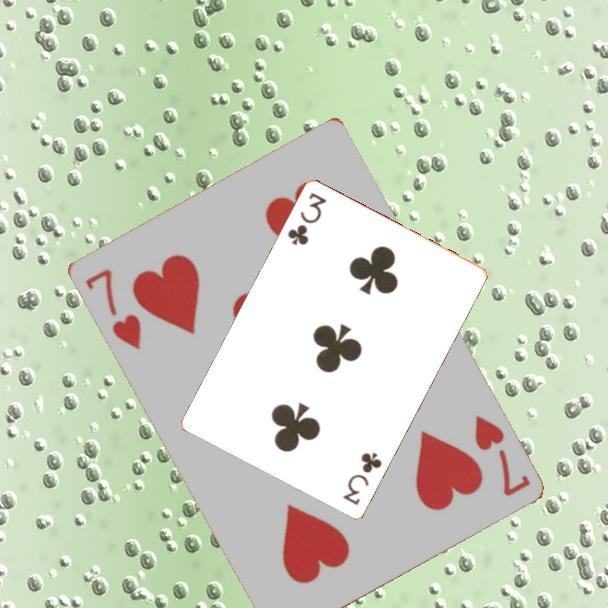c03: (339, 449, 385, 509), (284, 189, 330, 249)
h07: (80, 265, 144, 353), (470, 411, 533, 500)
